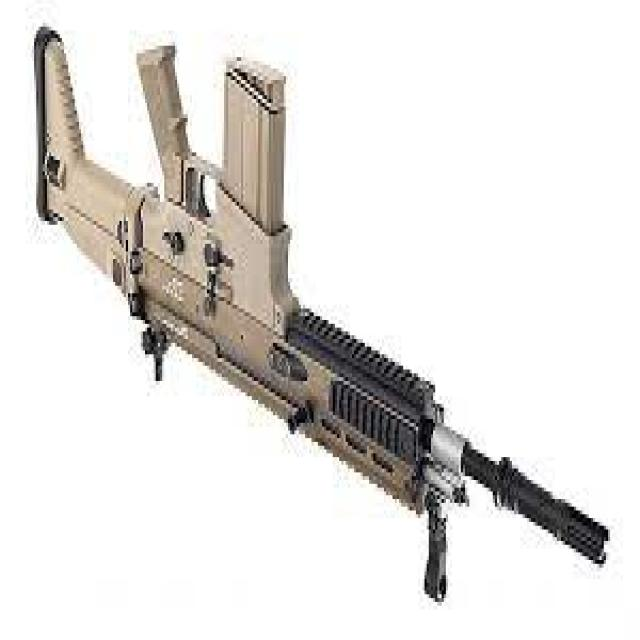Gun: (18, 12, 616, 620)
